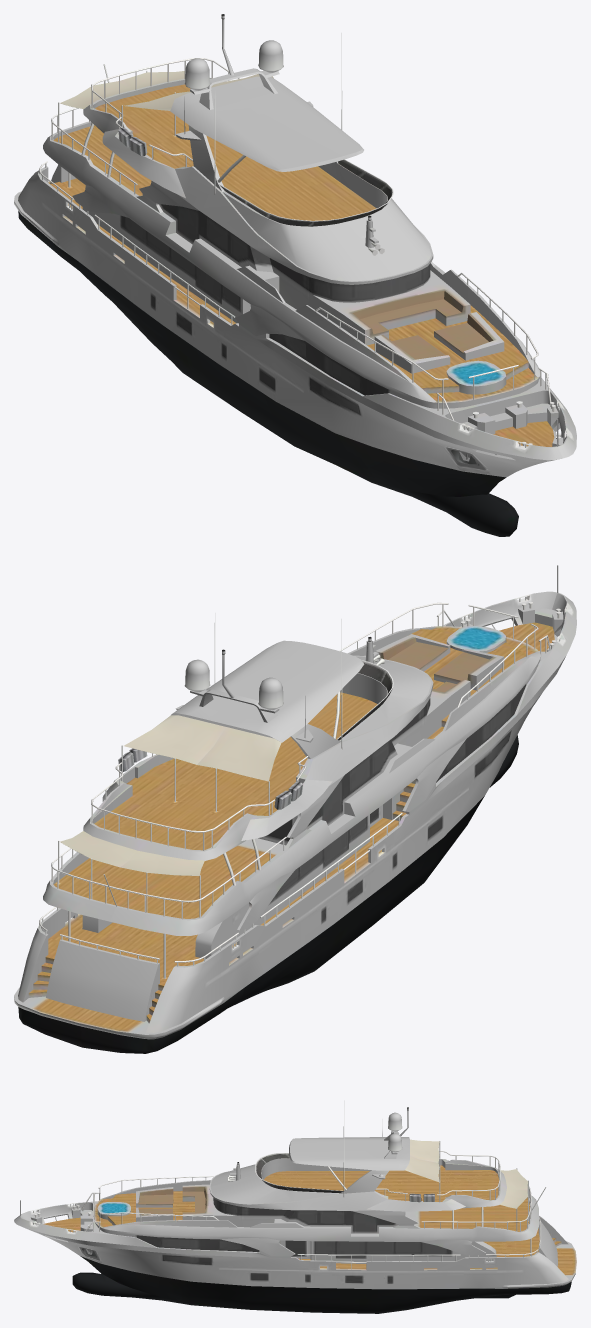
File: yacht.glb
3 renders of one model, top to bottom at view 1: azimuth 30°, elevation 25°; view 2: azimuth 150°, elevation 25°; view 3: azimuth 270°, elevation 25°, orthographic. The views are drawn at different scales.
Parts seen in each view (by area): view 1: korpus1_01 - Default_0; view 2: korpus1_01 - Default_0; view 3: korpus1_01 - Default_0.
Boxes of the visible parts, x1,y1,x2,y2 form: korpus1_01 - Default_0: (14, 14, 576, 536); korpus1_01 - Default_0: (14, 565, 576, 1053); korpus1_01 - Default_0: (14, 1100, 576, 1313).
Bounding box in the file's own units: 6.11 × 11.64 × 30.
1 material, 1 textured.
